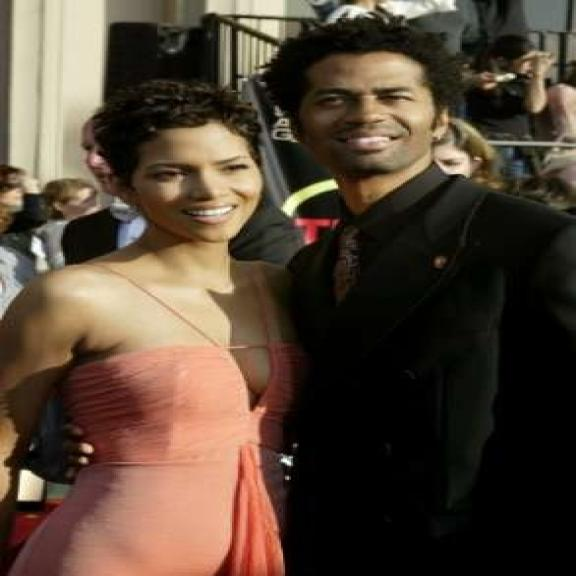face: (290, 51, 454, 183), (115, 126, 262, 246), (84, 122, 135, 193), (435, 123, 494, 182), (49, 190, 106, 223)
